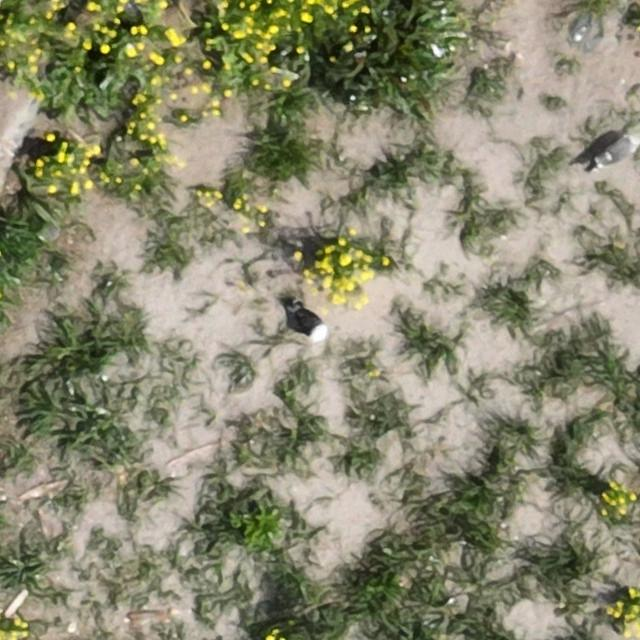umineko: (293, 306, 325, 338)
